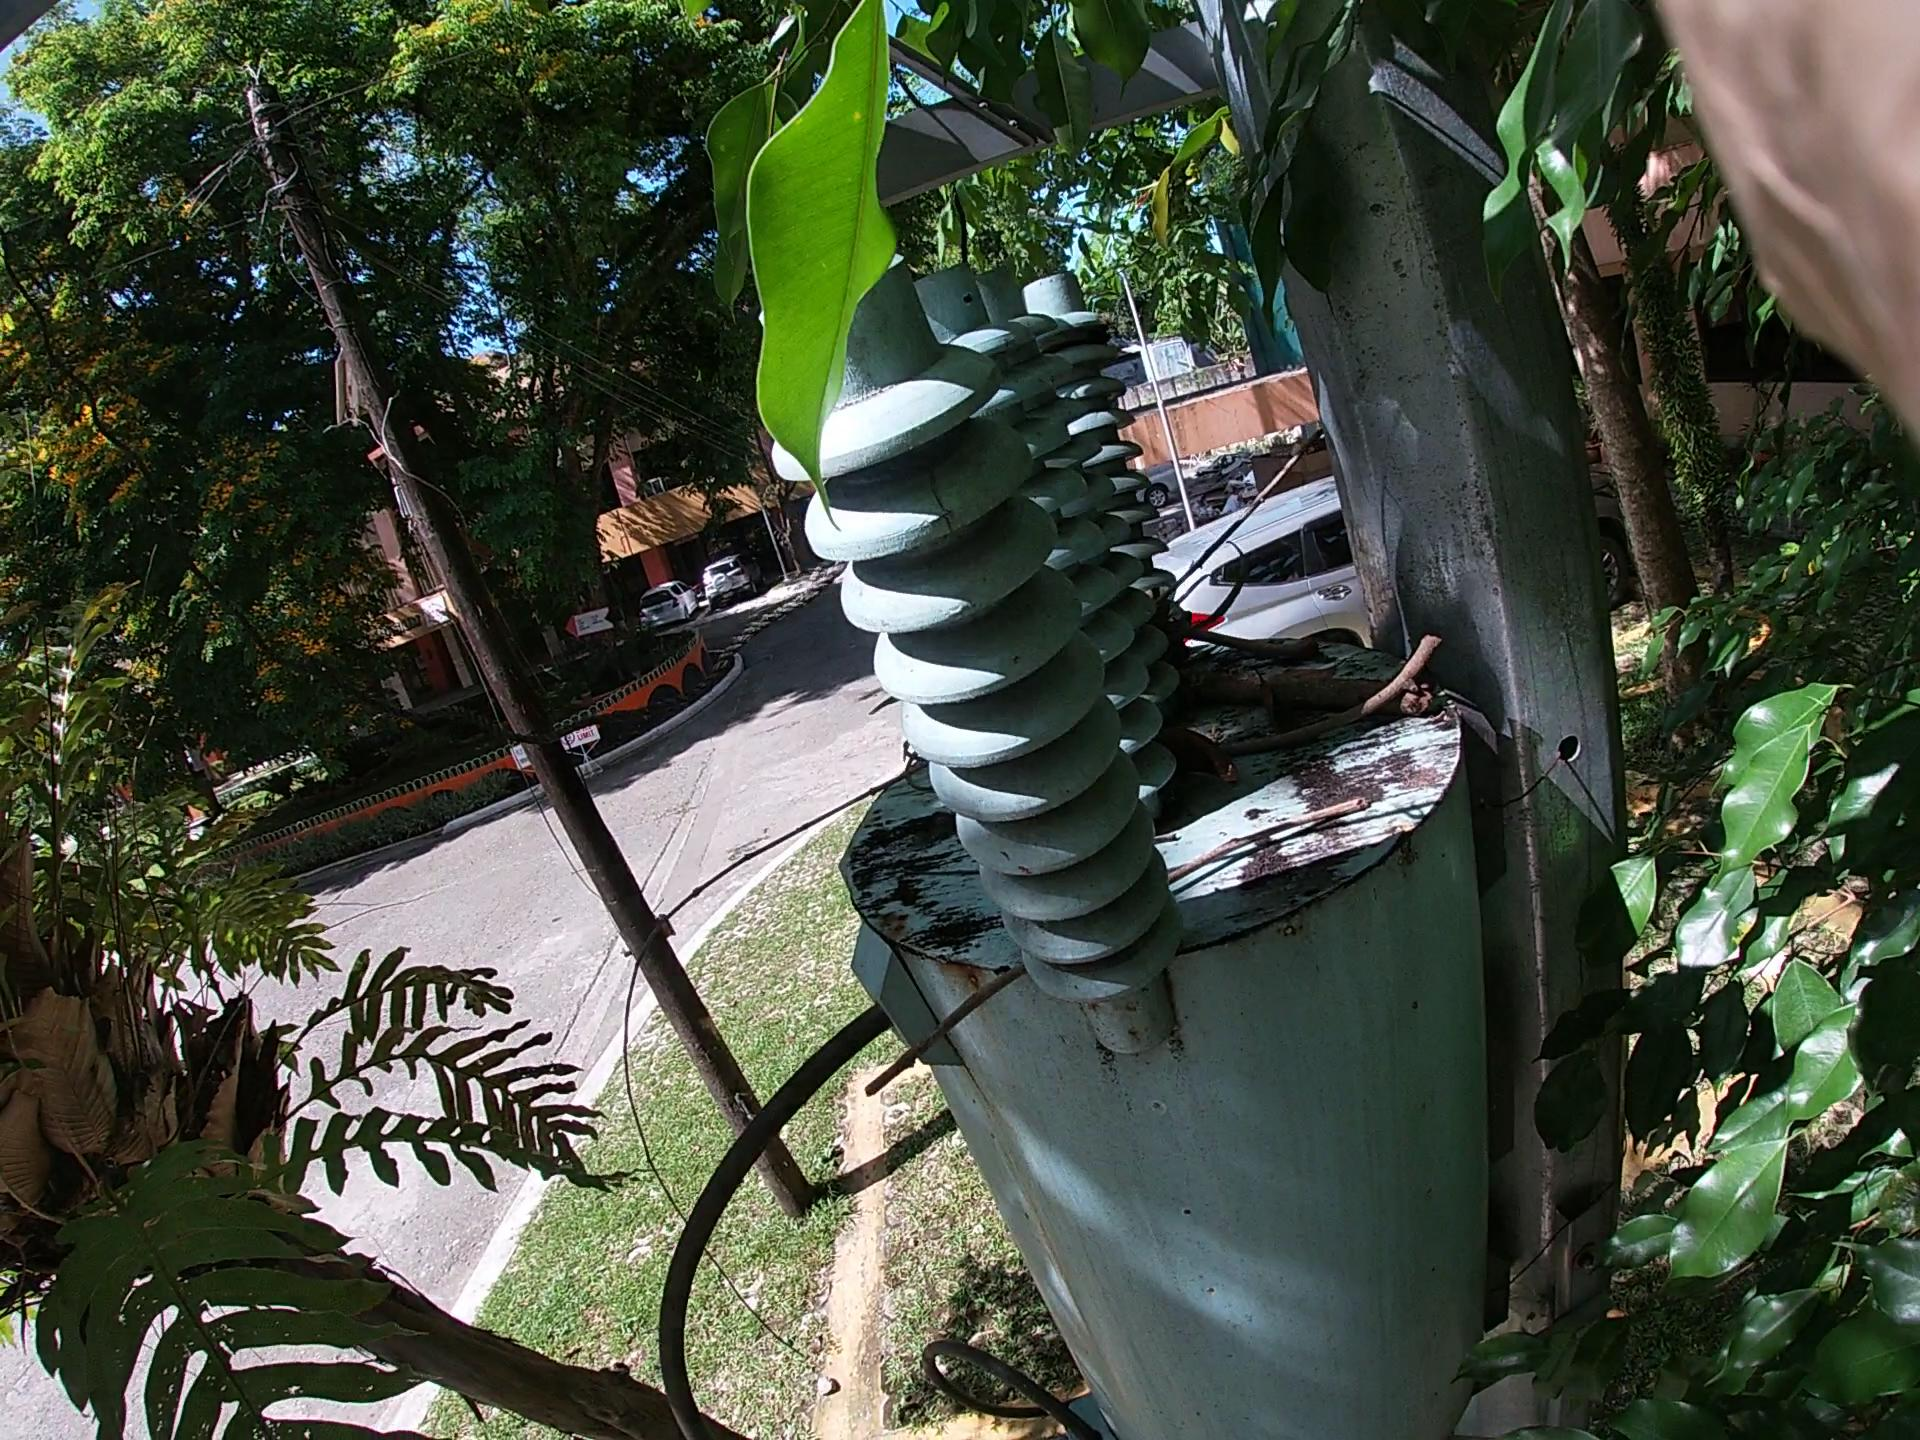mahogany fruit: (1134, 655, 1270, 762)
tree branch: (472, 304, 1277, 1165), (883, 796, 1279, 1097), (1098, 673, 1690, 765), (1208, 641, 1430, 764)
